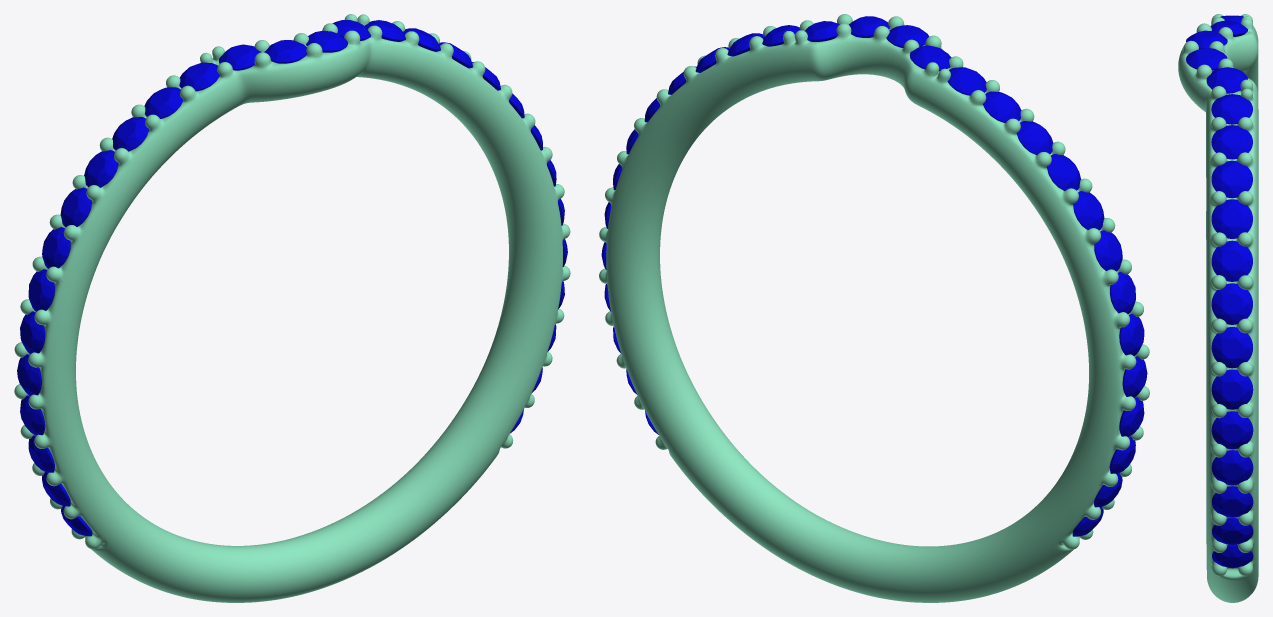
3 renders of one model, left to right at view 1: azimuth 30°, elevation 25°; view 2: azimuth 150°, elevation 25°; view 3: azimuth 270°, elevation 25°, orthographic. The views are drawn at different scales.
Parts seen in each view (by area): view 1: Metal03, Diamond_Band.008, Diamond_Band.007, Diamond_Band.009, Diamond_Band.006, Diamond_Band.010, Diamond_Band.011, Diamond_Band.005, Diamond_Band.012, Diamond_Band.003, Diamond_Band.004, Diamond_Band.013; view 2: Metal03, Diamond_Band.008, Diamond_Band.007, Diamond_Band.009, Diamond_Band.010, Diamond_Band.006, Diamond_Band.011, Diamond_Band.005, Diamond_Band.012, Diamond_Band.004; view 3: Metal03, Diamond_Band.025, Diamond_Band.024, Diamond_Band.026, Diamond_Band.023, Diamond_Band.027, Diamond_Band.022, Diamond_Band.028, Diamond_Band.021, Diamond_Band, Diamond_Band.020, Diamond_Band.029 (+6 smaller).
Boxes of the visible parts, <box> form: Metal03: <box>14,14,570,602</box>; Diamond_Band.008: <box>84,150,118,187</box>; Diamond_Band.007: <box>112,117,149,151</box>; Diamond_Band.009: <box>60,187,91,226</box>; Diamond_Band.006: <box>144,87,183,118</box>; Diamond_Band.010: <box>42,227,70,268</box>; Diamond_Band.011: <box>28,269,54,311</box>; Diamond_Band.005: <box>179,62,219,91</box>; Diamond_Band.012: <box>20,311,45,353</box>; Diamond_Band.003: <box>264,40,306,63</box>; Diamond_Band.004: <box>219,44,261,70</box>; Diamond_Band.013: <box>17,354,41,396</box>; Metal03: <box>599,14,1149,602</box>; Diamond_Band.008: <box>1047,154,1080,190</box>; Diamond_Band.007: <box>1016,121,1053,155</box>; Diamond_Band.009: <box>1073,191,1104,230</box>; Diamond_Band.010: <box>1094,230,1122,271</box>; Diamond_Band.006: <box>983,91,1021,122</box>; Diamond_Band.011: <box>1110,272,1135,313</box>; Diamond_Band.005: <box>947,67,986,95</box>; Diamond_Band.012: <box>1119,314,1144,356</box>; Diamond_Band.004: <box>909,45,951,71</box>; Metal03: <box>1178,14,1258,602</box>; Diamond_Band.025: <box>1211,283,1252,324</box>; Diamond_Band.024: <box>1211,327,1252,368</box>; Diamond_Band.026: <box>1211,240,1252,281</box>; Diamond_Band.023: <box>1211,369,1253,409</box>; Diamond_Band.027: <box>1211,199,1252,238</box>; Diamond_Band.022: <box>1211,411,1253,449</box>; Diamond_Band.028: <box>1211,160,1252,198</box>; Diamond_Band.021: <box>1211,450,1253,485</box>; Diamond_Band: <box>1211,125,1252,159</box>; Diamond_Band.020: <box>1211,486,1253,517</box>; Diamond_Band.029: <box>1211,94,1252,124</box>.
Bounding box in the file's own units: 21.26 × 21.3 × 2.91.
